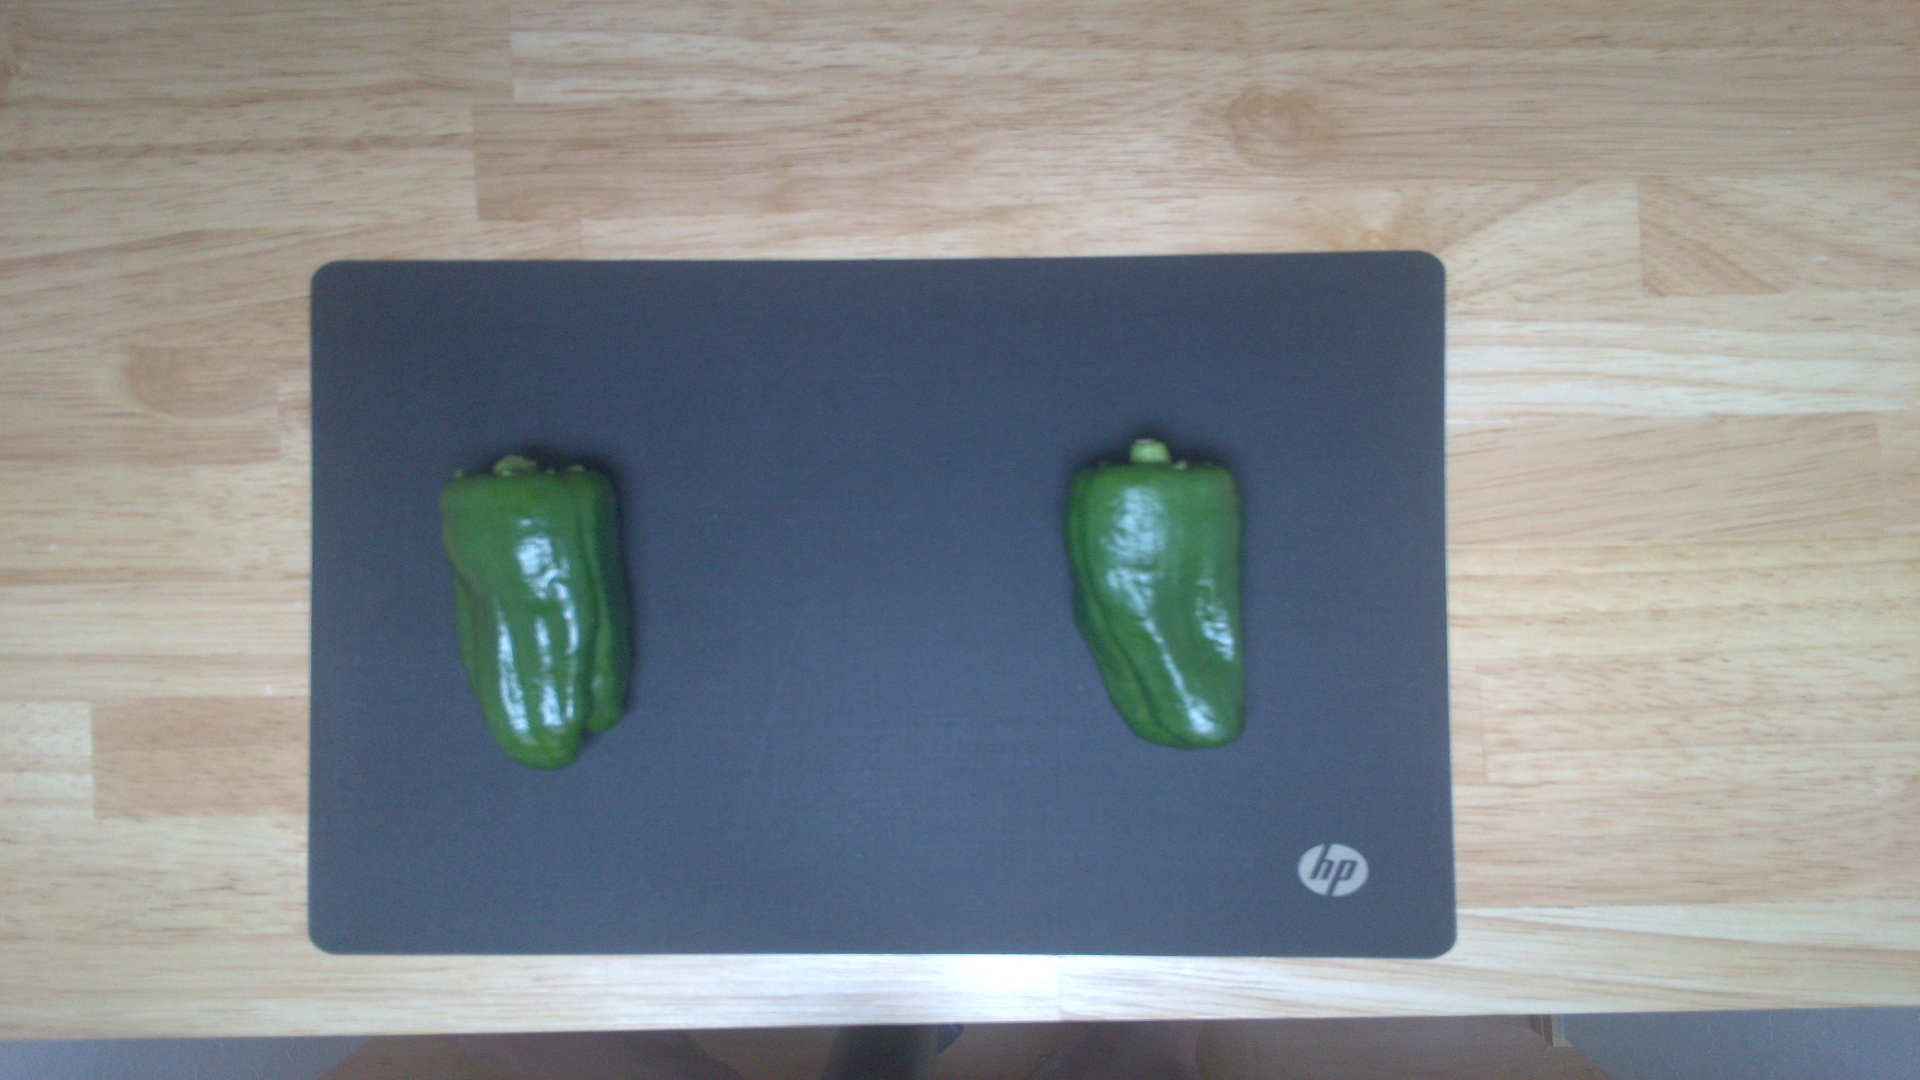Piman: (1062, 430, 1255, 754), (438, 454, 636, 771)
